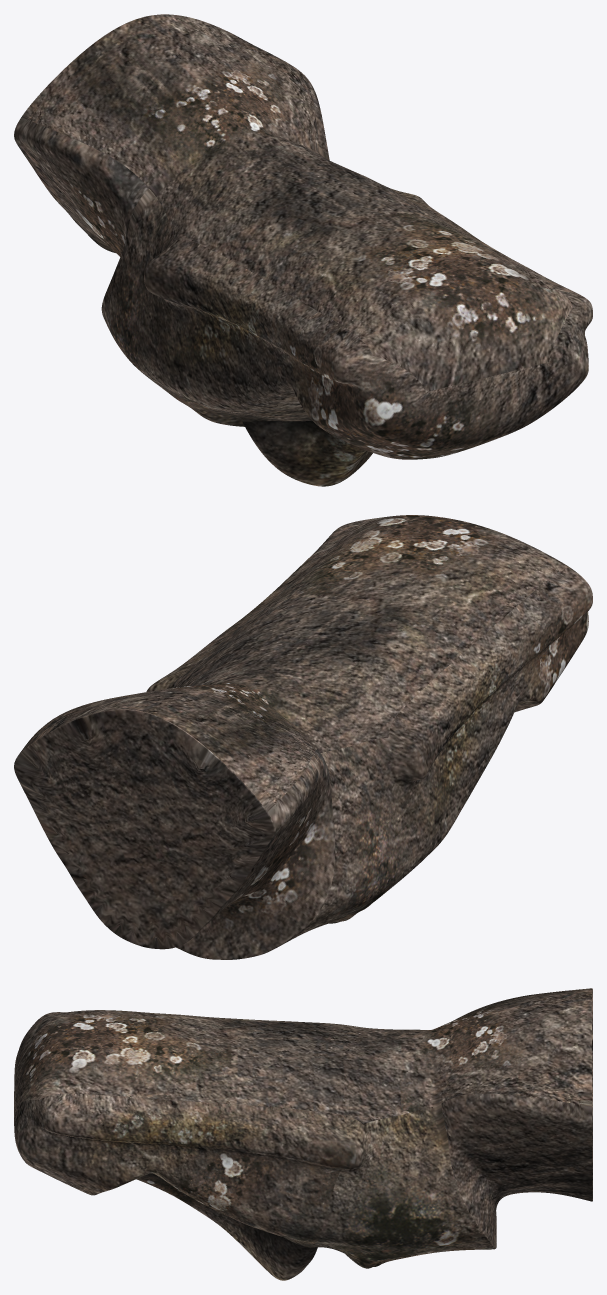
File: 10805_Moai_L3.mb.obj
3 renders of one model, top to bottom at view 1: azimuth 30°, elevation 25°; view 2: azimuth 150°, elevation 25°; view 3: azimuth 270°, elevation 25°, orthographic. The views are drawn at different scales.
Visible parts, largest first — view 1: Moai; view 2: Moai; view 3: Moai.
Boxes of the visible parts, x1,y1,x2,y2 form: Moai: (14,14,592,486); Moai: (14,515,592,959); Moai: (14,988,592,1280).
Size of the model in its own units: 234 by 267 by 501.
1 material, 1 textured.
